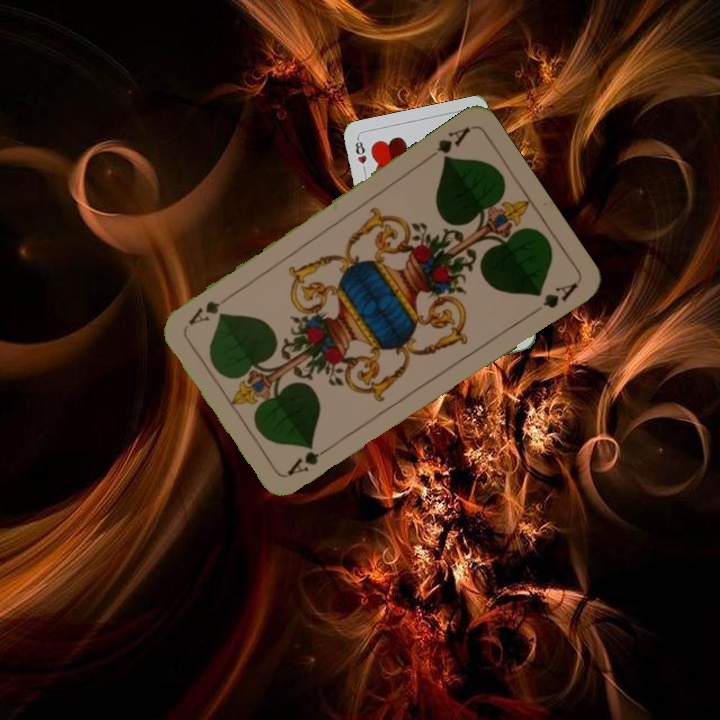GA: (421, 122, 473, 164), (283, 440, 337, 479)
H8: (351, 135, 369, 166)
